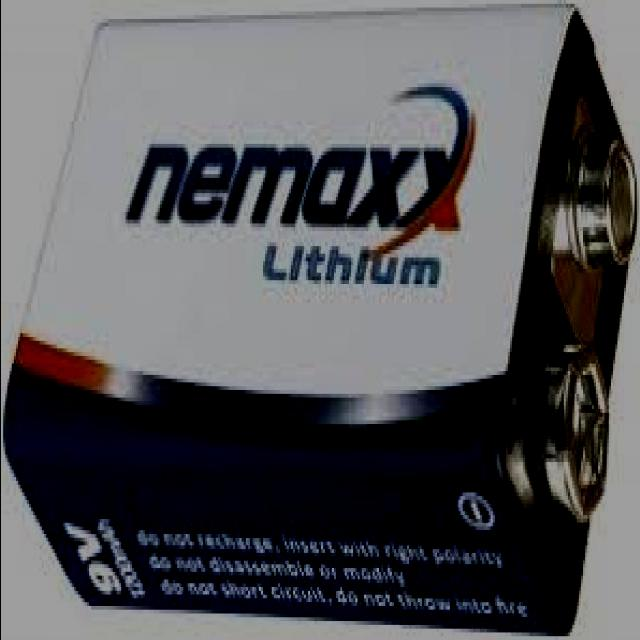9V: (0, 11, 636, 610)
